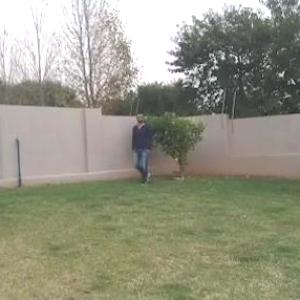follow: (134, 111, 153, 188)
